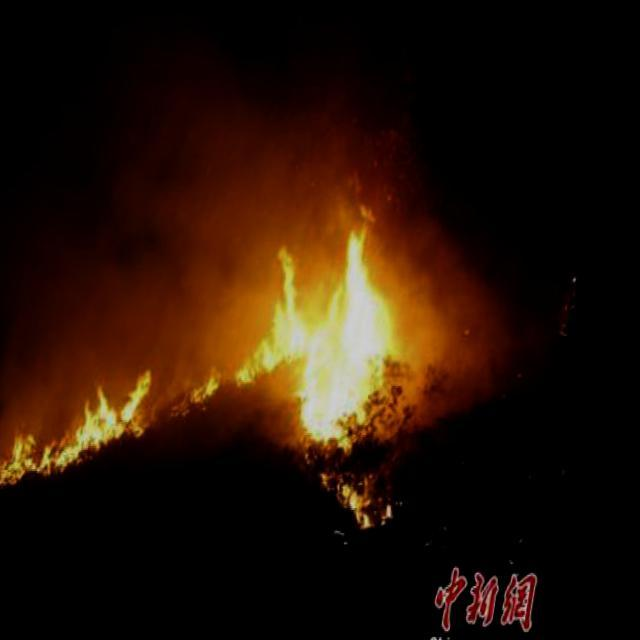Fire: (190, 205, 453, 530), (0, 347, 169, 500)
